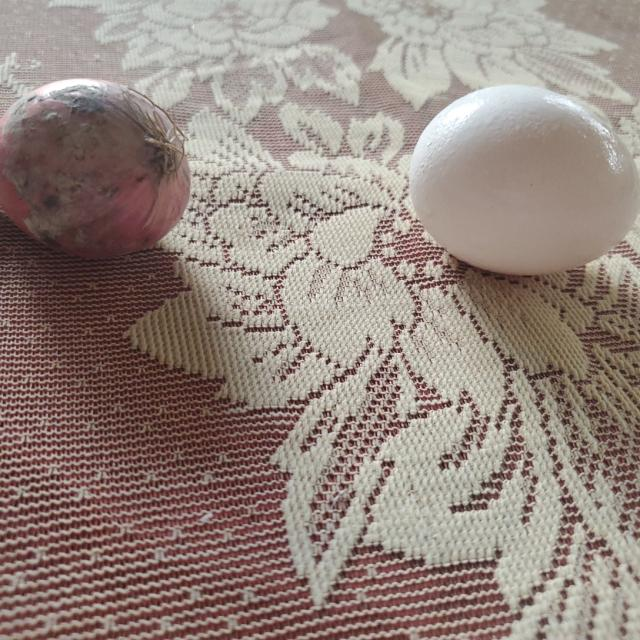egg: (406, 81, 632, 268)
onion: (0, 80, 192, 249)
